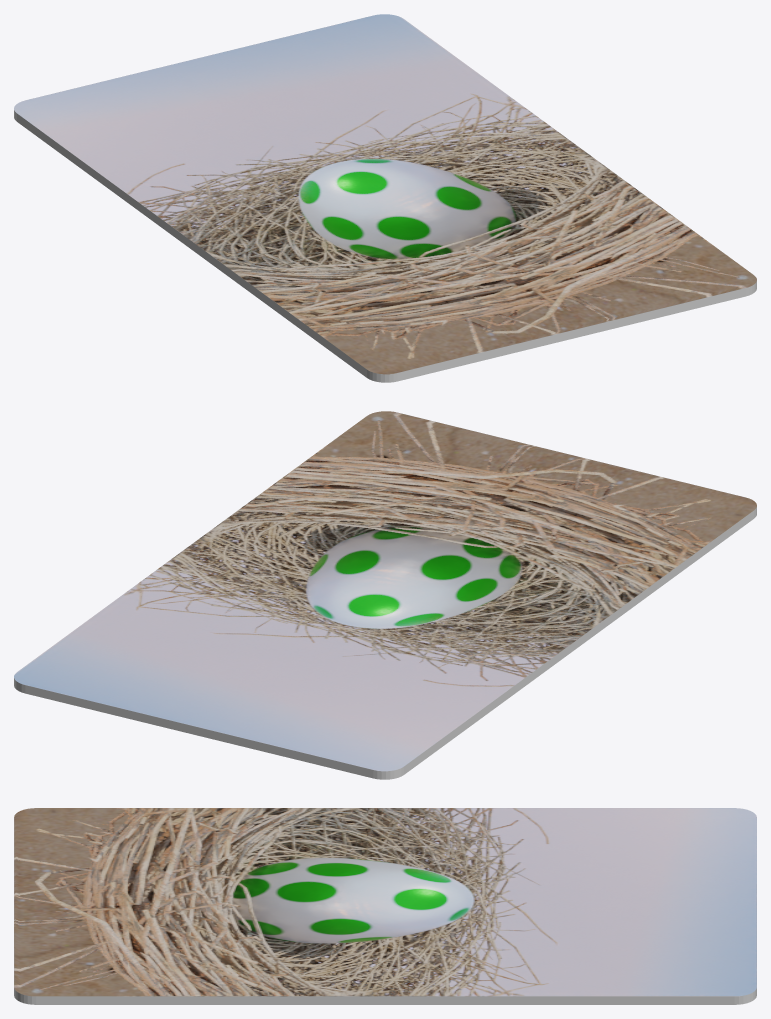
File: card.glb
3 renders of one model, top to bottom at view 1: azimuth 30°, elevation 25°; view 2: azimuth 150°, elevation 25°; view 3: azimuth 270°, elevation 25°, orthographic.
Visible parts, largest first — view 1: card; view 2: card; view 3: card.
Part boxes in pixels (box(x1,y1,x2,y2)): card: box(14, 14, 756, 382); card: box(14, 411, 756, 779); card: box(14, 808, 756, 1004).
Bounding box in the file's own units: 0.48 × 0.01 × 0.8.
Materials: 3 (2 with a texture image).
